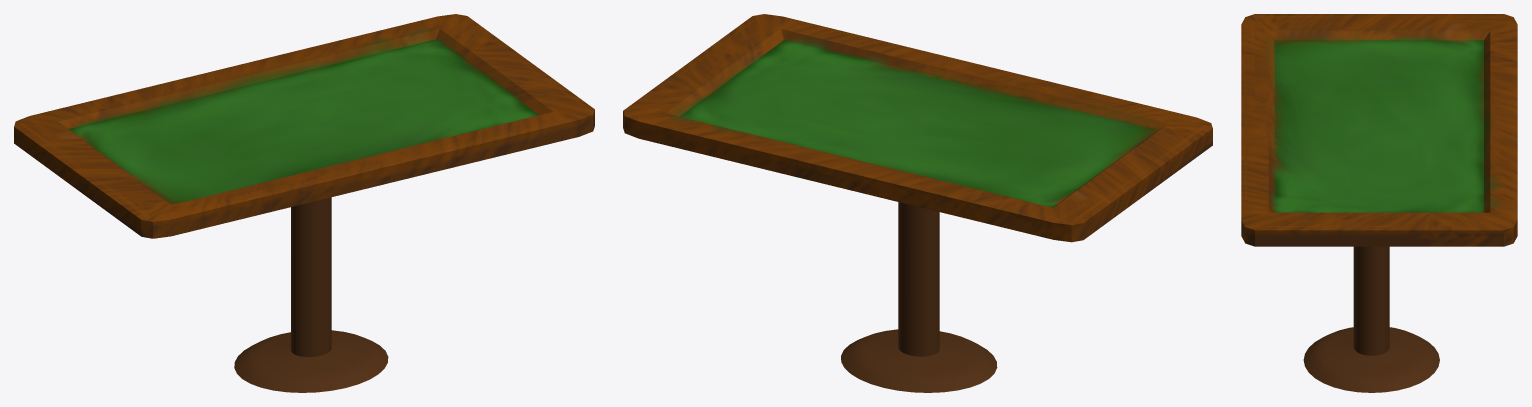
The model's file is Table.fbx.
3 views of the same model, side by side, from view 1: azimuth 30°, elevation 25°; view 2: azimuth 150°, elevation 25°; view 3: azimuth 270°, elevation 25° (orthographic). The views are drawn at different scales.
Parts seen in each view (by area): view 1: Mesa_Baixo; view 2: Mesa_Baixo; view 3: Mesa_Baixo.
Boxes of the visible parts, left/top/right/bottom form: Mesa_Baixo: left=14, top=14, right=594, bottom=392; Mesa_Baixo: left=623, top=14, right=1212, bottom=392; Mesa_Baixo: left=1241, top=14, right=1517, bottom=392.
Size of the model in its own units: 4550 by 2332 by 2459.
3 materials, 2 textured.
